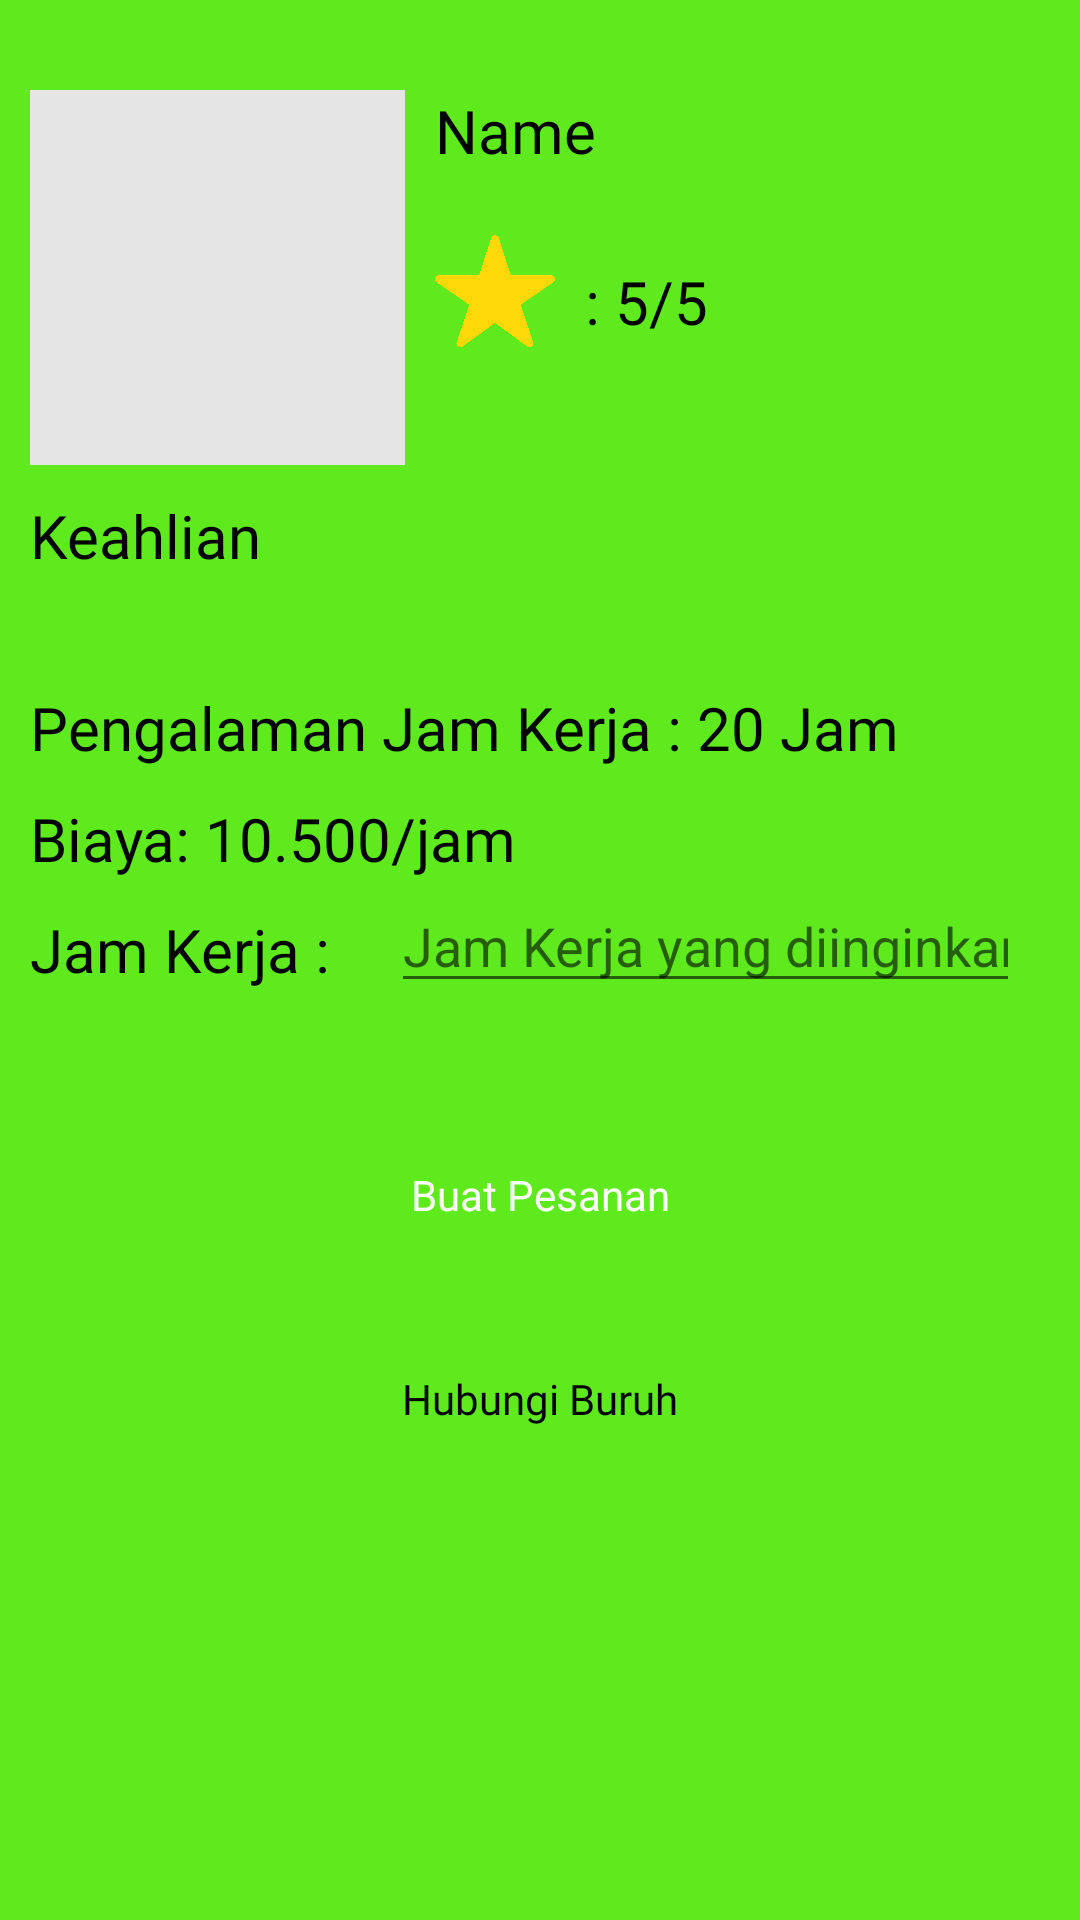

Screen size 1080px×1920px. Icon name, then its box in pixels as (x1, y1, x2, y2):
star: (435, 235, 555, 347)
